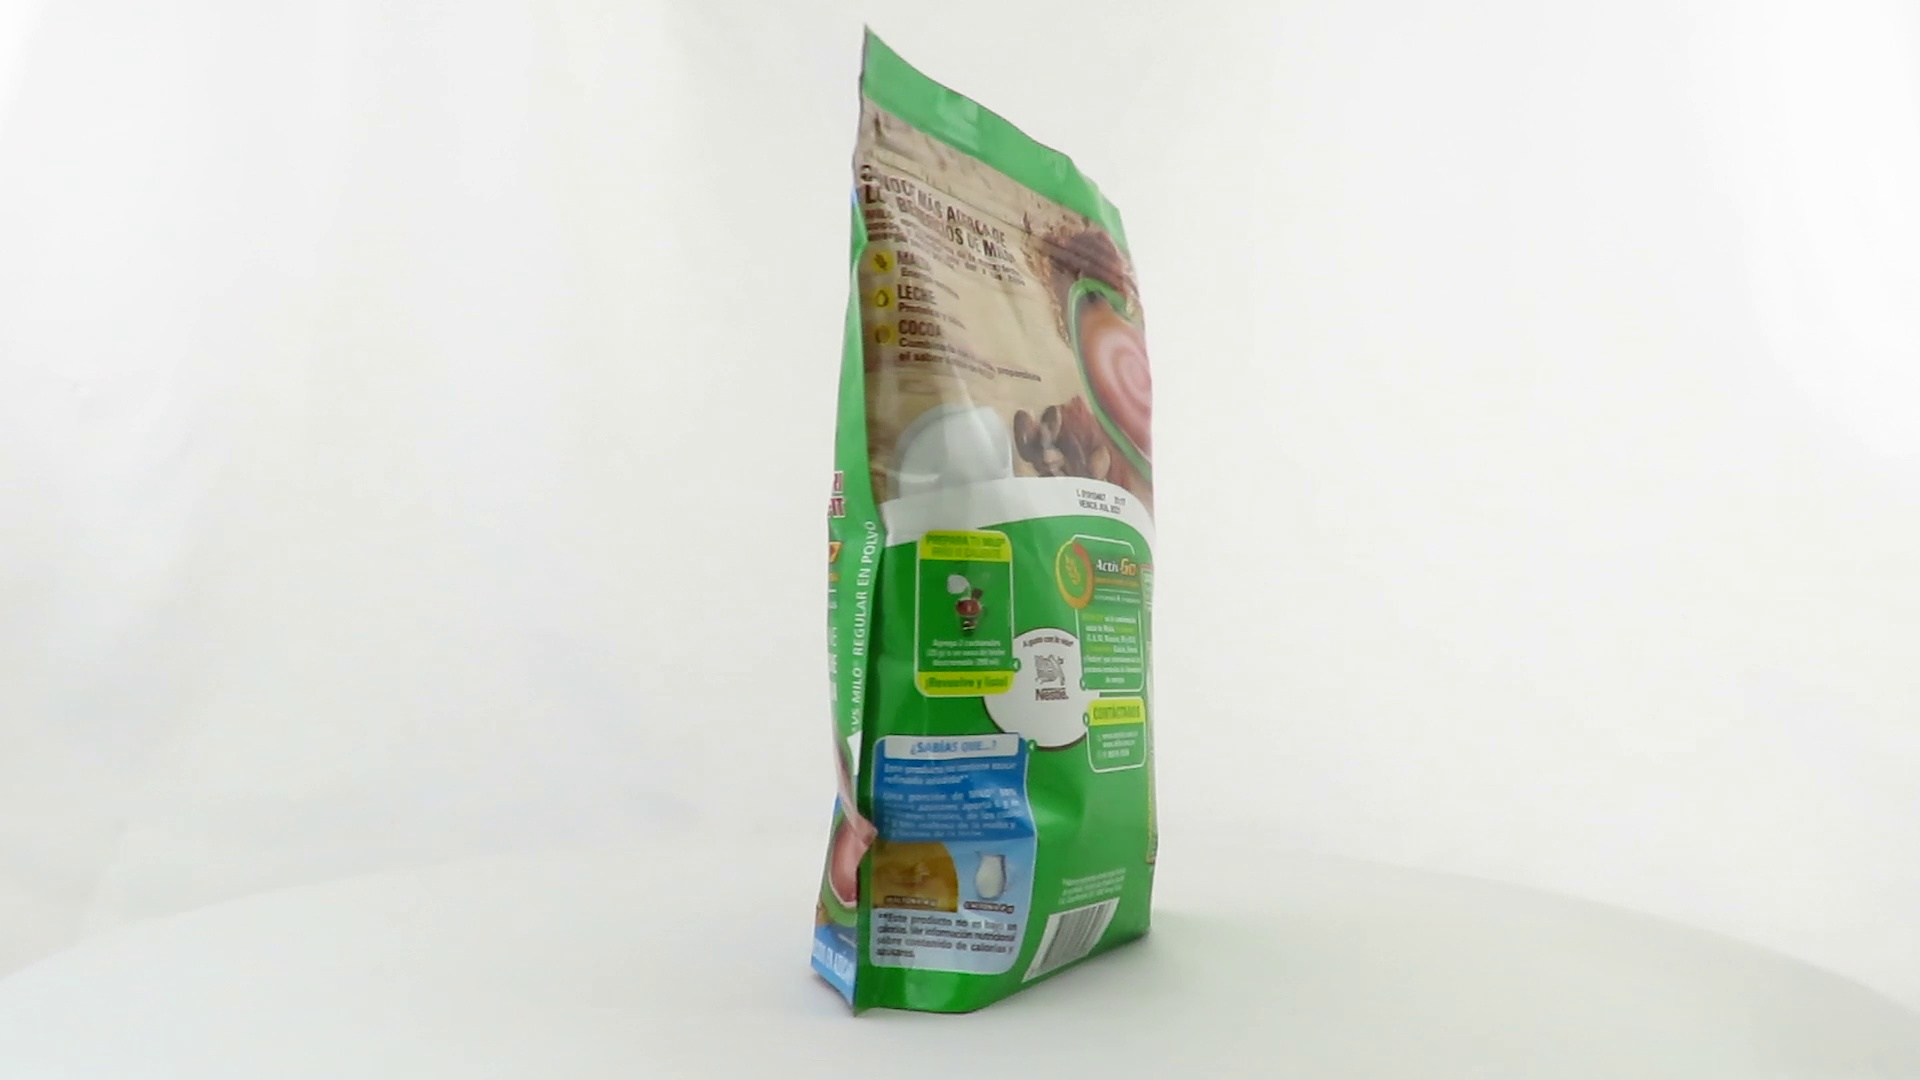COL0170205DYP50000: (804, 18, 1164, 1027)
